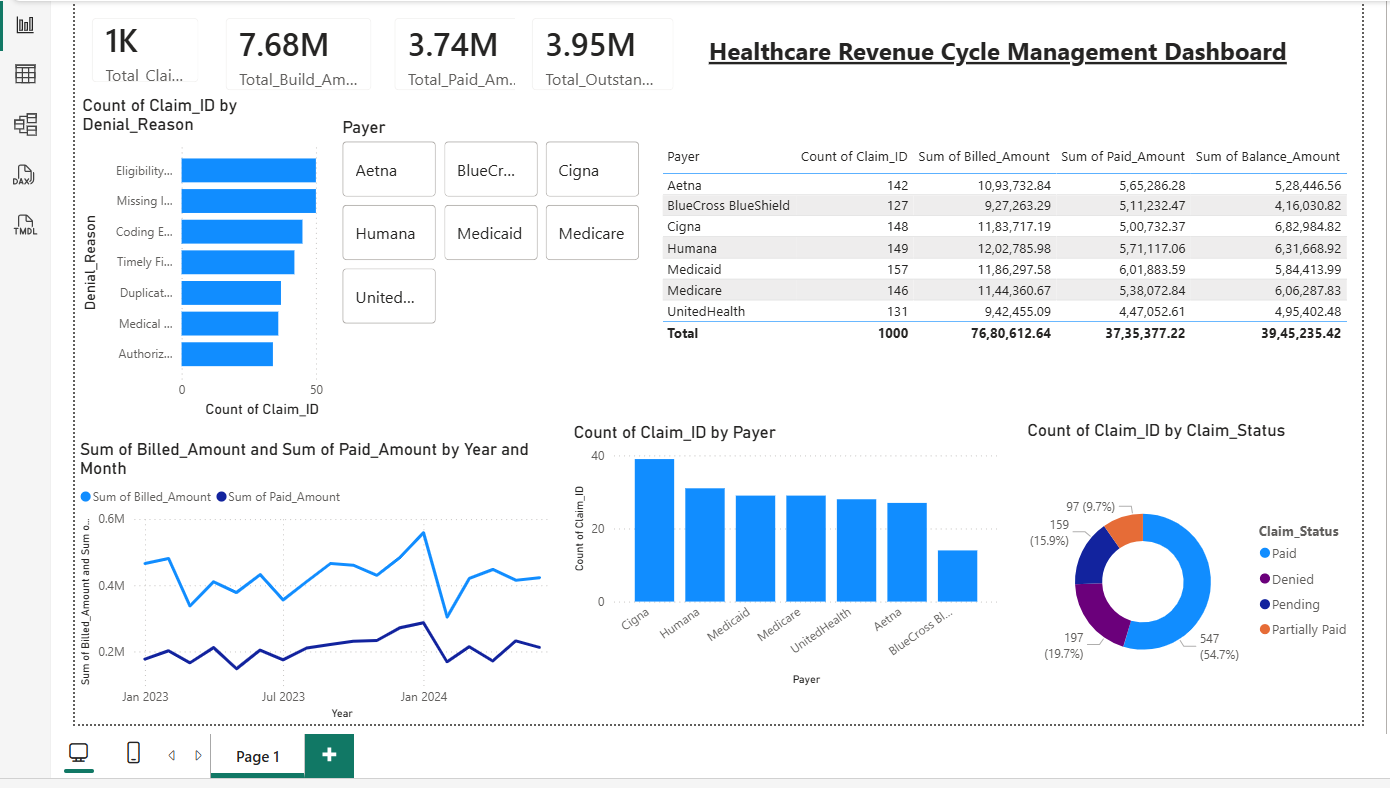

The page's visual inventory and layout, read from the dashboard file:
{"tool":"powerbi","page":{"name":"Page 1","canvas":[1280,720],"ordinal":0},"visuals":[{"type":"cardVisual","fields":{"Data":["CountNonNull(Claims_Data.Claim_ID)"]},"box":[0,0,140.6,98.3],"z":0},{"type":"cardVisual","fields":{"Data":["Sum(Claims_Data.Billed_Amount)"]},"box":[133,0,179.8,106.7],"z":1000},{"type":"cardVisual","fields":{"Data":["Sum(Claims_Data.Paid_Amount)"]},"box":[301,0,174.2,107],"z":2000},{"type":"cardVisual","fields":{"Data":["Sum(Claims_Data.Balance_Amount)"]},"box":[437.9,0,175.4,107],"z":3000},{"type":"donutChart","fields":{"Y":["CountNonNull(Claims_Data.Claim_ID)"],"Category":["Claims_Data.Claim_Status"]},"box":[942.9,416.7,337.1,303.5],"z":4000},{"type":"clusteredBarChart","fields":{"Category":["Claims_Data.Denial_Reason"],"Y":["CountNonNull(Claims_Data.Claim_ID)"]},"box":[2.5,93.3,276.2,325.9],"z":5000},{"type":"lineChart","fields":{"Y":["Sum(Claims_Data.Billed_Amount)","Sum(Claims_Data.Paid_Amount)"],"Category":["Claims_Data.Claim_Date.Variation.Date Hierarchy.Year","Claims_Data.Claim_Date.Variation.Date Hierarchy.Month"]},"box":[0,435.4,491.4,284.9],"z":6000},{"type":"clusteredColumnChart","fields":{"Category":["Claims_Data.Payer"],"Y":["CountNonNull(Claims_Data.Claim_ID)"]},"box":[491.4,419.2,432.9,267.5],"z":7000},{"type":"tableEx","fields":{"Values":["Claims_Data.Payer","Claims_Data.Claim_ID","Sum(Claims_Data.Billed_Amount)","Sum(Claims_Data.Paid_Amount)","Sum(Claims_Data.Balance_Amount)"]},"box":[578.4,138.1,695.4,241.3],"z":8000},{"type":"textbox","box":[613.3,28.6,660.5,64.7],"z":9000},{"type":"advancedSlicerVisual","fields":{"Values":["Claims_Data.Payer"]},"box":[261.2,115.7,306,211.5],"z":10000}]}

Visuals, with their boxes on the page's 1280x720 design canvas (x1, y1, x2, y2). These are canvas units, not pixel positions in the 1390x788 screenshot, which may show the page scaled, cropped or inside an application window:
cardVisual - CountNonNull(Claims_Data.Claim_ID): [x1=0, y1=0, x2=141, y2=98]
cardVisual - Sum(Claims_Data.Billed_Amount): [x1=133, y1=0, x2=313, y2=107]
cardVisual - Sum(Claims_Data.Paid_Amount): [x1=301, y1=0, x2=475, y2=107]
cardVisual - Sum(Claims_Data.Balance_Amount): [x1=438, y1=0, x2=613, y2=107]
donutChart - CountNonNull(Claims_Data.Claim_ID) x Claims_Data.Claim_Status: [x1=943, y1=417, x2=1280, y2=720]
clusteredBarChart - Claims_Data.Denial_Reason x CountNonNull(Claims_Data.Claim_ID): [x1=2, y1=93, x2=279, y2=419]
lineChart - Sum(Claims_Data.Billed_Amount) x Sum(Claims_Data.Paid_Amount): [x1=0, y1=435, x2=491, y2=720]
clusteredColumnChart - Claims_Data.Payer x CountNonNull(Claims_Data.Claim_ID): [x1=491, y1=419, x2=924, y2=687]
tableEx - Claims_Data.Payer x Claims_Data.Claim_ID: [x1=578, y1=138, x2=1274, y2=379]
textbox: [x1=613, y1=29, x2=1274, y2=93]
advancedSlicerVisual - Claims_Data.Payer: [x1=261, y1=116, x2=567, y2=327]
